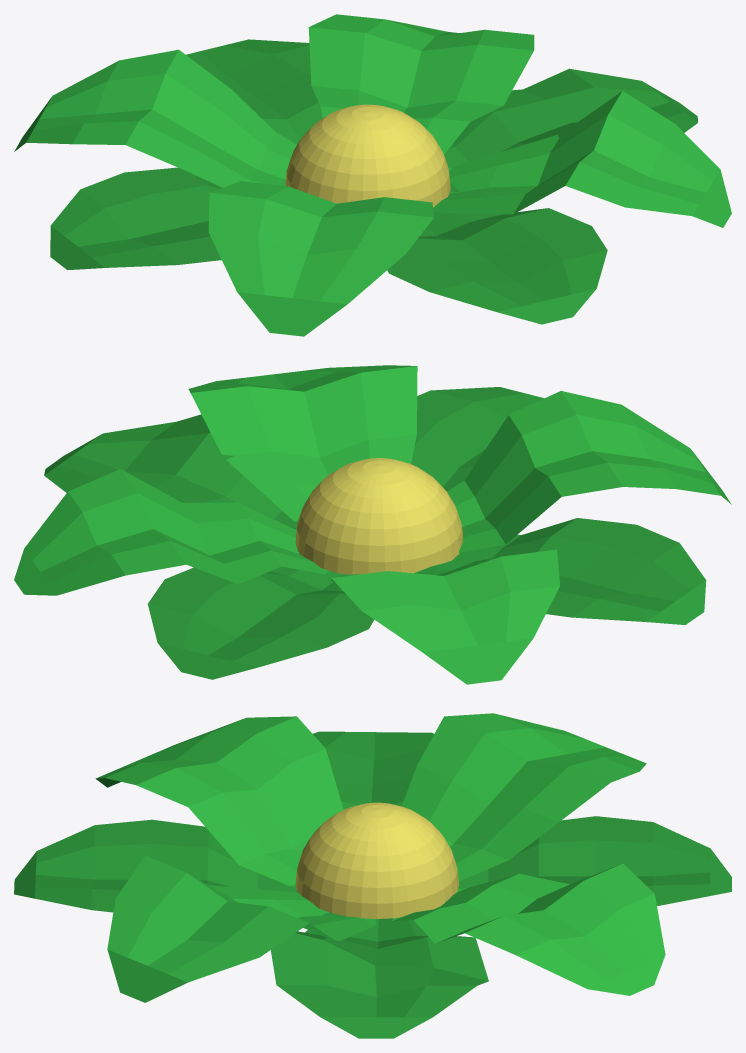
The model's file is gele1.glb.
3 views of the same model, one above another, from view 1: azimuth 30°, elevation 25°; view 2: azimuth 150°, elevation 25°; view 3: azimuth 270°, elevation 25° (orthographic). The views are drawn at different scales.
Parts seen in each view (by area): view 1: Gele.001; view 2: Gele.001; view 3: Gele.001.
Boxes of the visible parts, <box> form: Gele.001: <box>14,14,731,336</box>; Gele.001: <box>14,365,731,684</box>; Gele.001: <box>14,713,731,1038</box>.
Size of the model in its own units: 0.3757 by 0.0644 by 0.3756.
